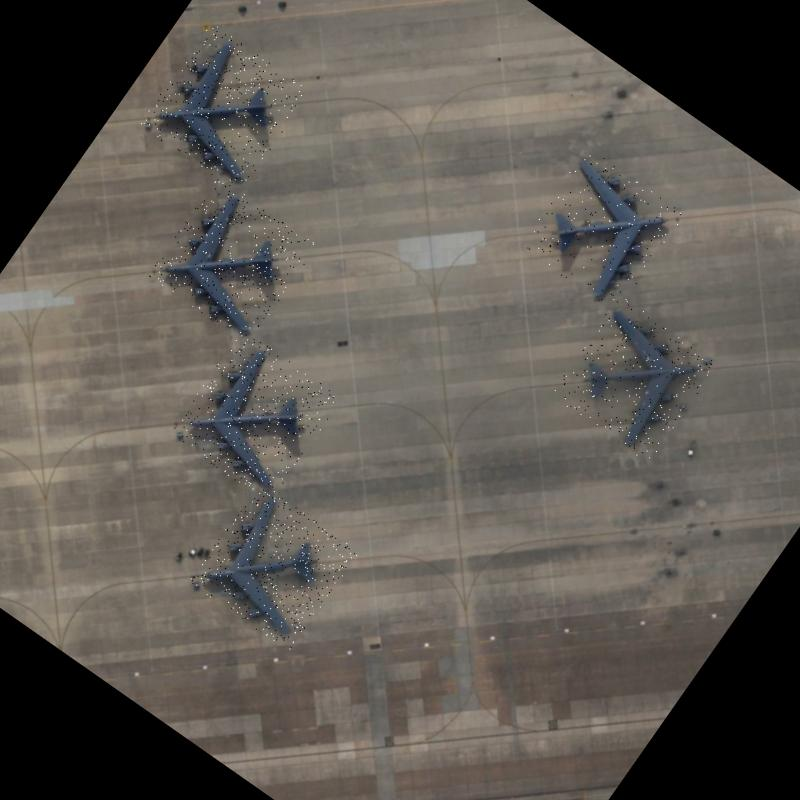A8: (168, 328, 342, 504), (187, 480, 360, 653), (139, 22, 310, 195), (148, 176, 318, 346), (549, 295, 718, 464), (517, 146, 685, 314)
